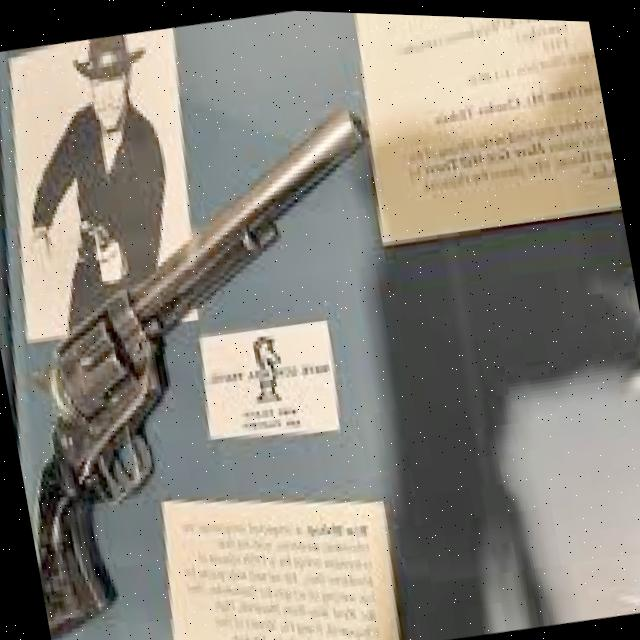pistol: (0, 91, 443, 640)
